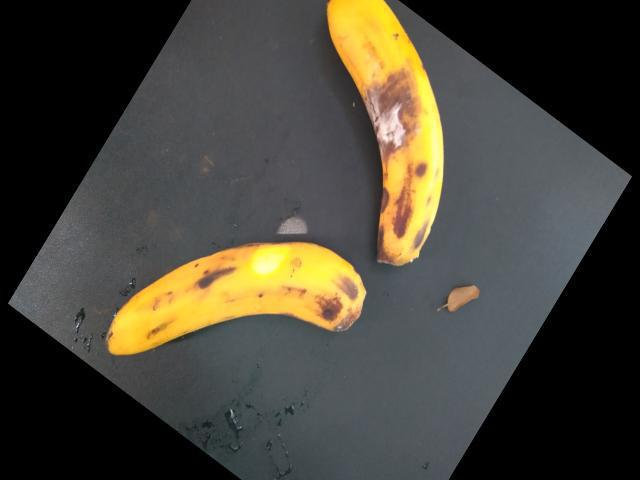ripe: (84, 238, 363, 379)
rotten: (318, 0, 483, 263)
